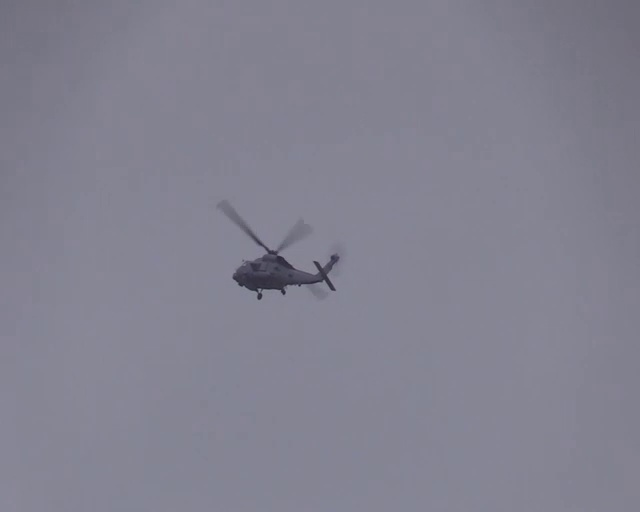HELICOPTER: (216, 199, 340, 299)
